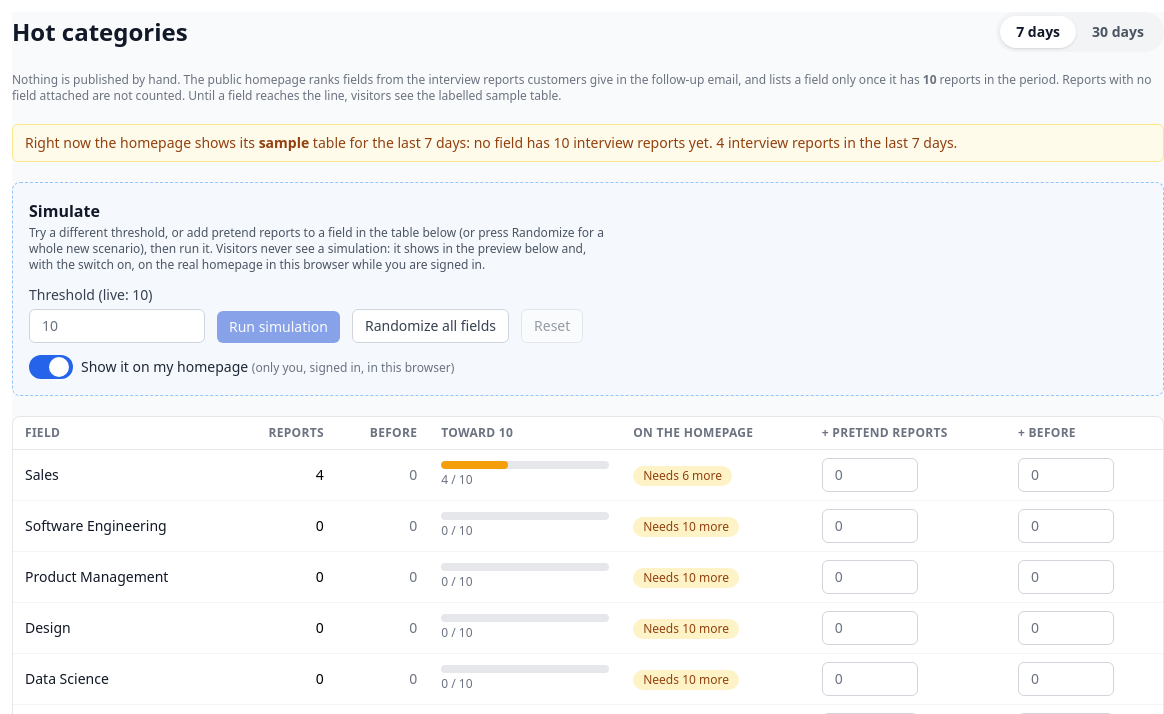
Test case: AdminHotCategories — the counts › the period switch shows the other window, with its own counts
This screenshot has width=1164, height=714.
Expected: the text "Needs 6 more" is shown, [633, 466, 732, 486]
Click the button "30 days" at (1118, 32), box [1076, 16, 1160, 48]
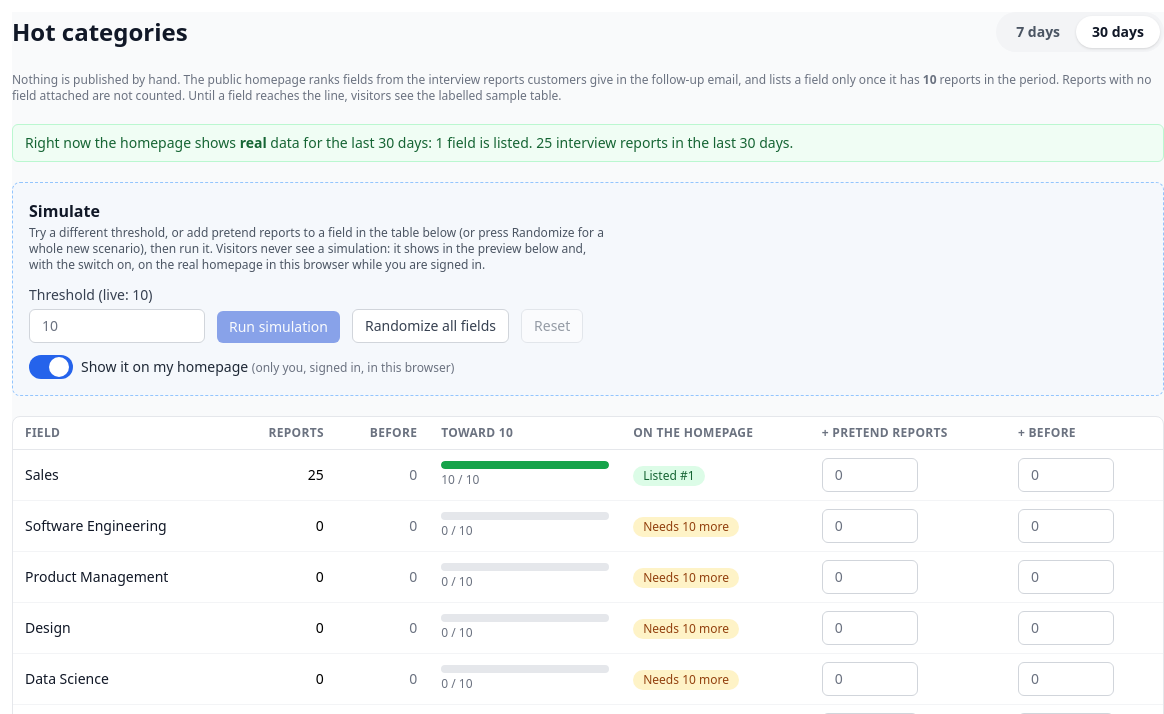
Expected: the text "Listed #1" is shown, [633, 466, 705, 486]
